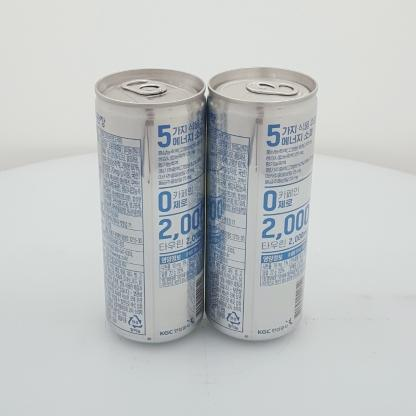---------: (205, 66, 318, 340), (94, 68, 206, 343)
